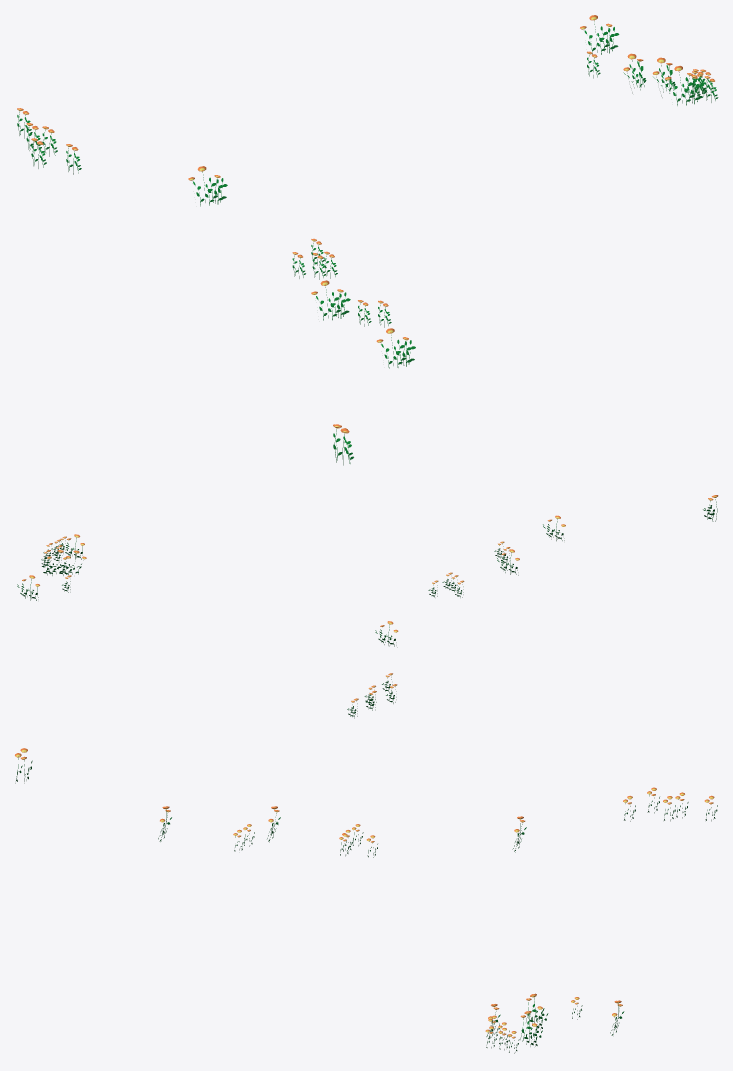
Rendered from flowerE.fbx.
3 renders of one model, top to bottom at view 1: azimuth 30°, elevation 25°; view 2: azimuth 150°, elevation 25°; view 3: azimuth 270°, elevation 25°, orthographic. The views are drawn at different scales.
Parts seen in each view (by area): view 1: flowerE; view 2: flowerE; view 3: flowerE.
Part boxes in pixels (x1,y1,x2,y2): flowerE: (17,15,718,465); flowerE: (17,495,718,718); flowerE: (15,748,717,1053).
Bounding box in the file's own units: 1038 × 69.36 × 1138.
Materials: 1 (1 with a texture image).
